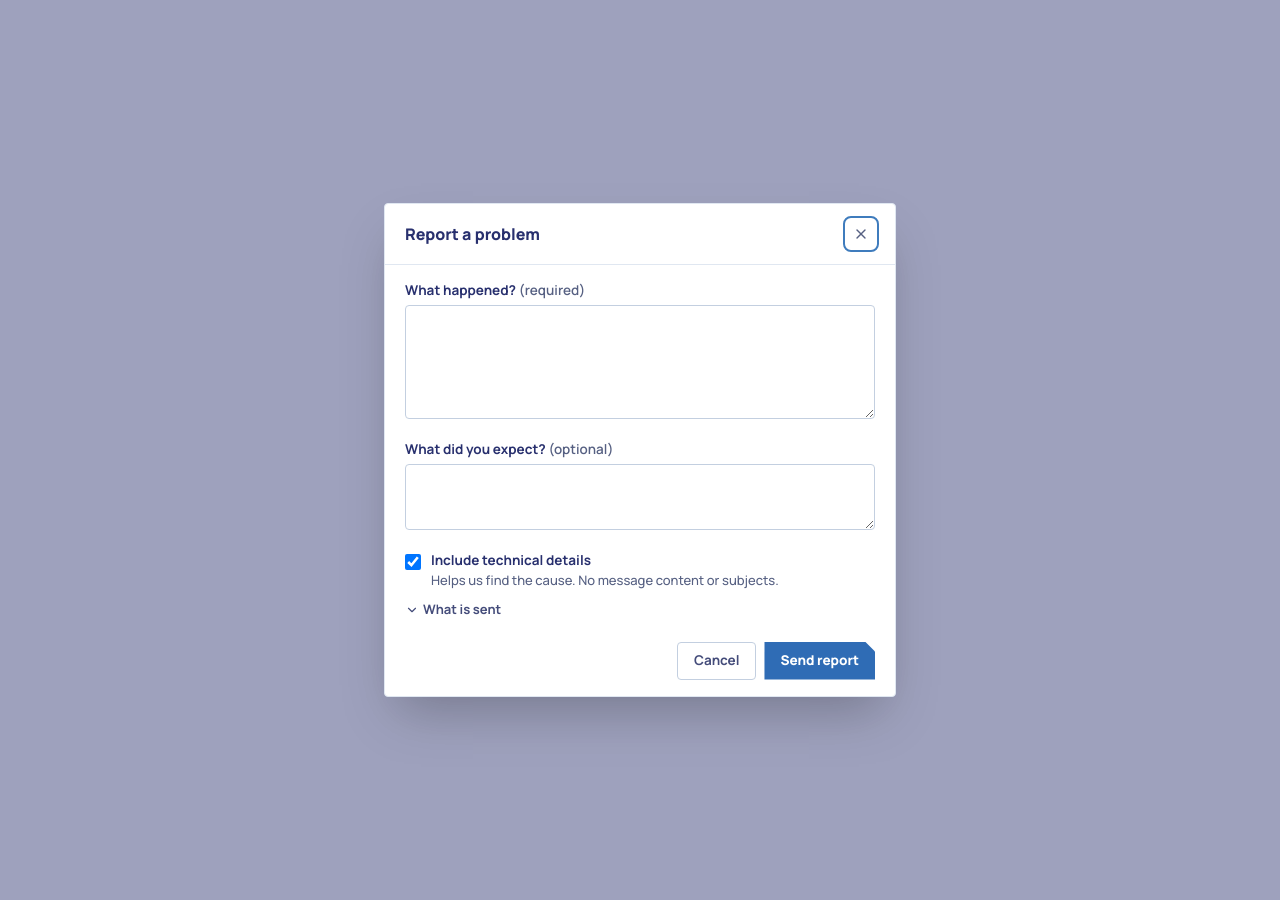
it: Report a problem form › shows a refusal from the server
In the text box labelled "What happened? (required)": [640, 362] box [405,305,875,419], type "x"
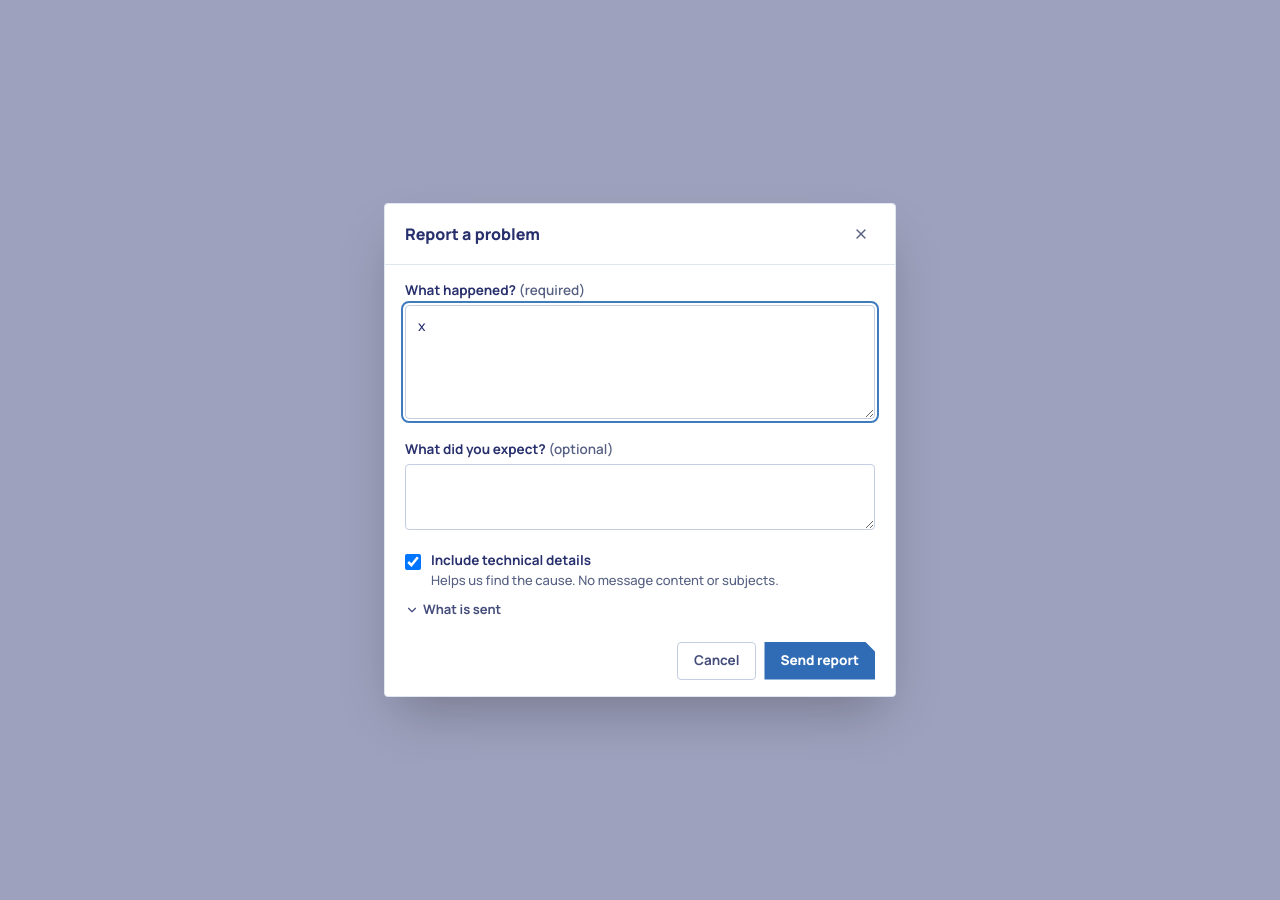
Click the button "Send report": [820, 661] box [764,642,875,680]
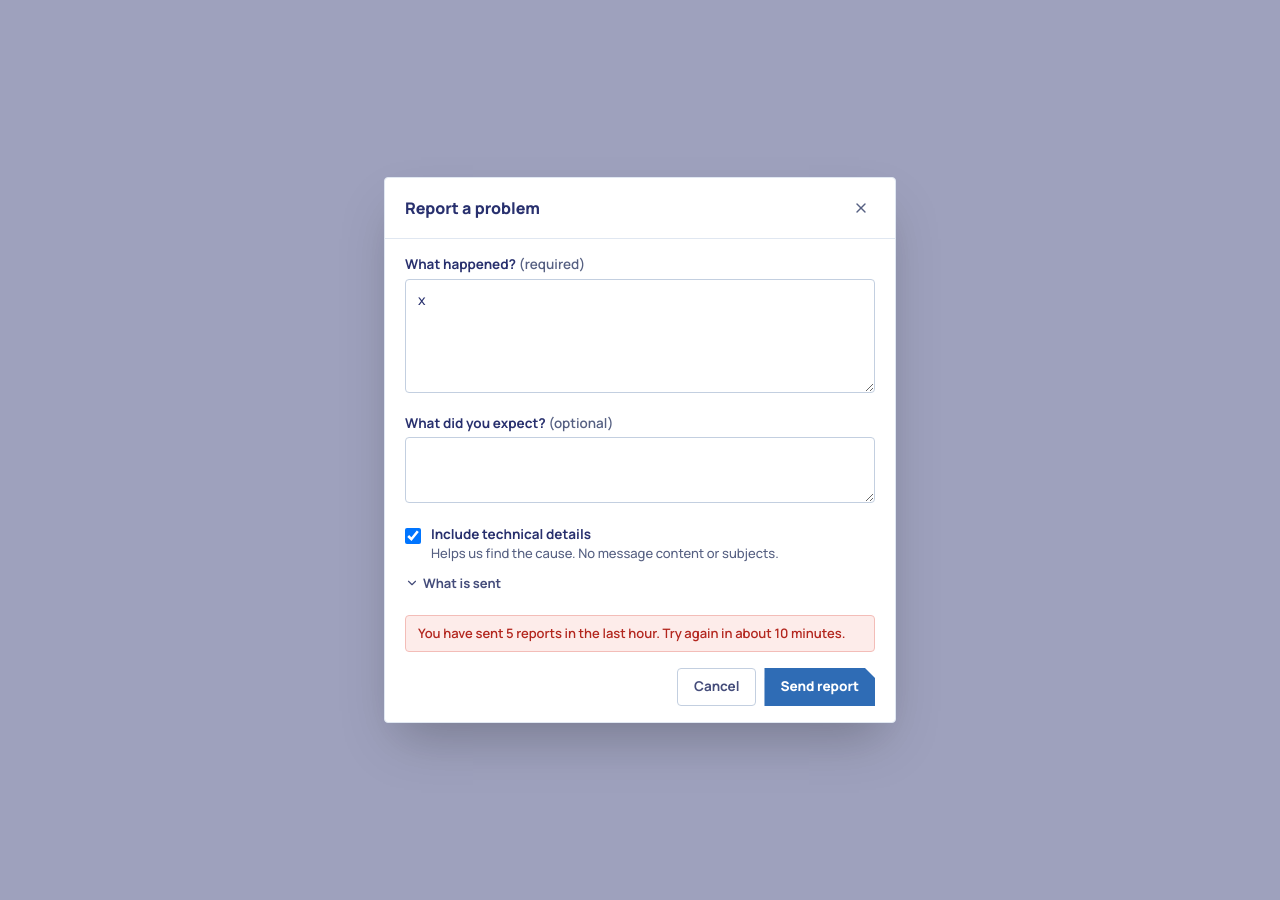
Result: the message shows "5 reports in the last hour" at [418,624,845,642]
